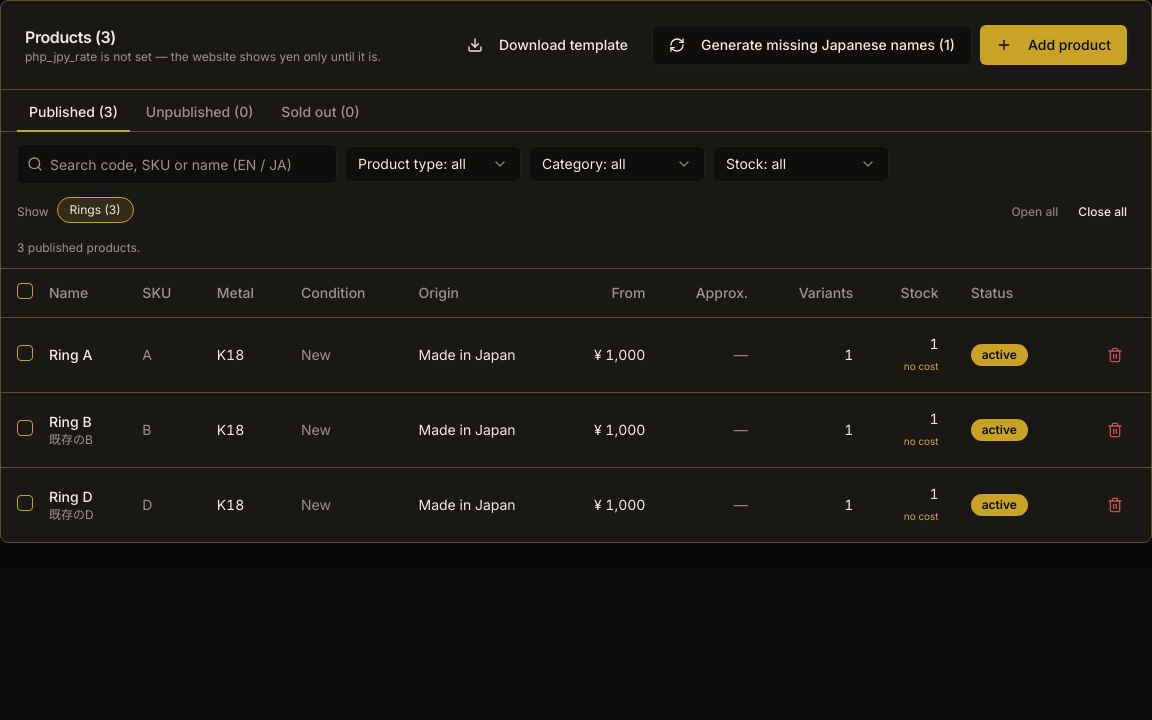
Test: Save locks the editor and belongs to its own session › a translation started in an old editor never lands in, or sticks a spinner on, the next one
Click the text "Ring A" at (80, 354), box [33,317,126,392]
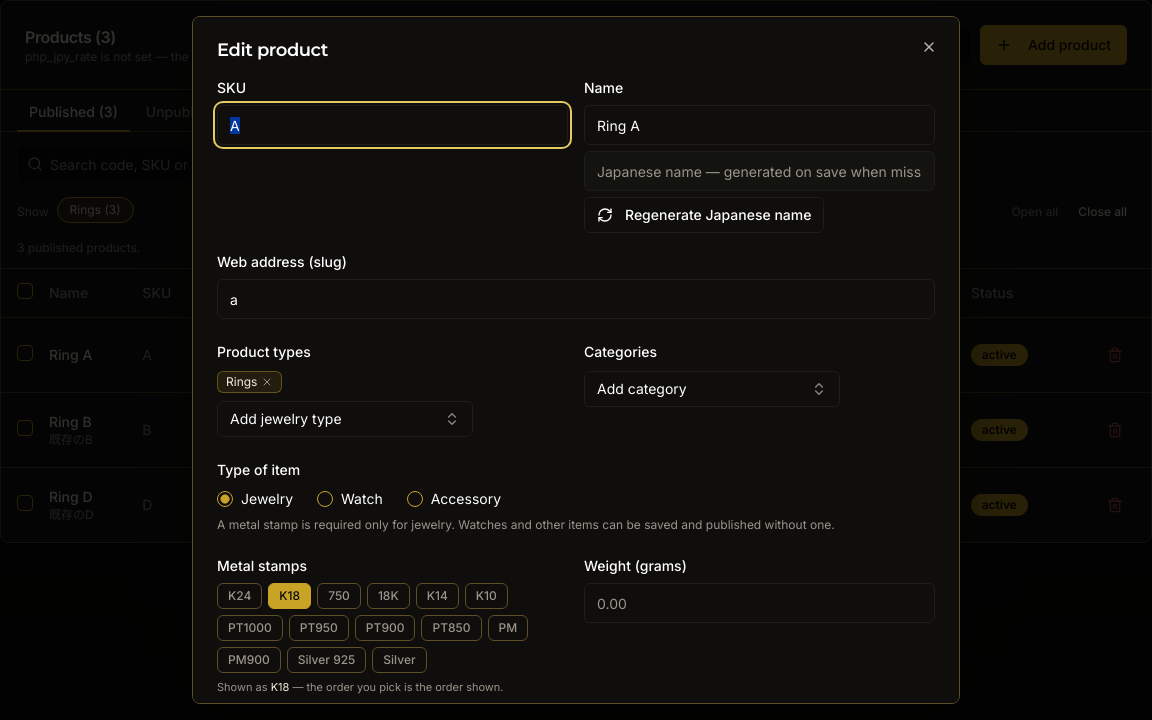
Check: the heading "Edit product" is shown, box [217,39,328,61]
Click the button "Regenerate Japanese name" at (704, 215), box [584,197,824,233]
(page scrolled)
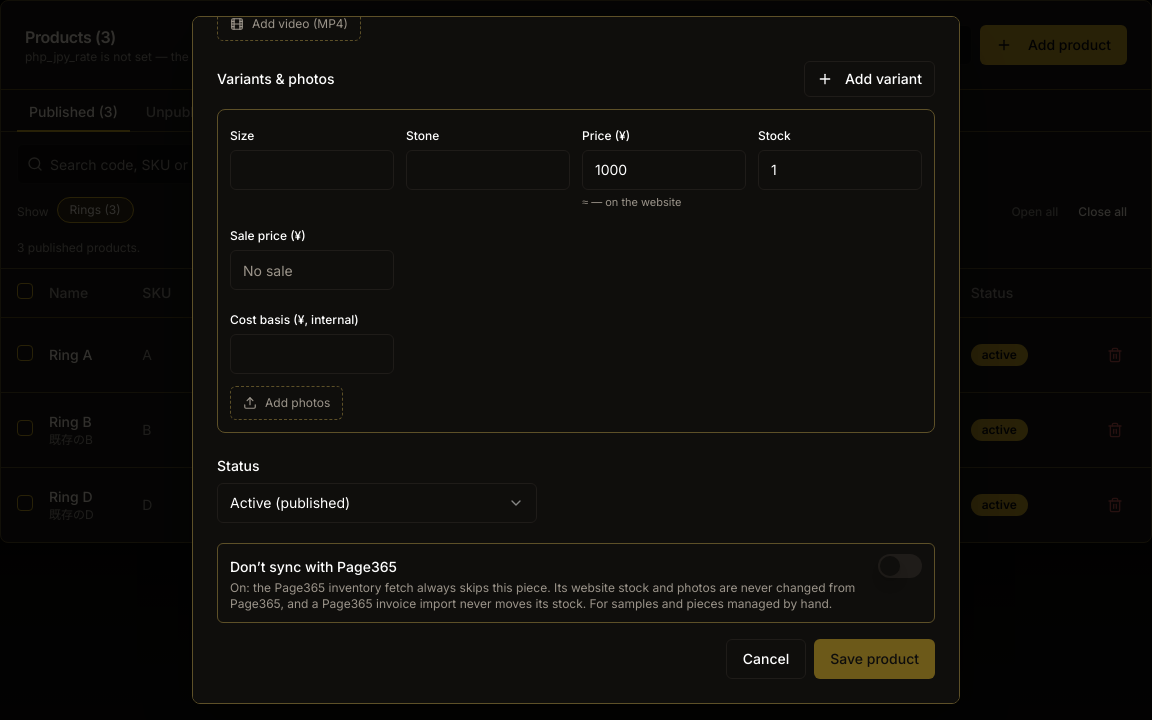
Click the button "Cancel" at (766, 659), box [726,639,806,679]
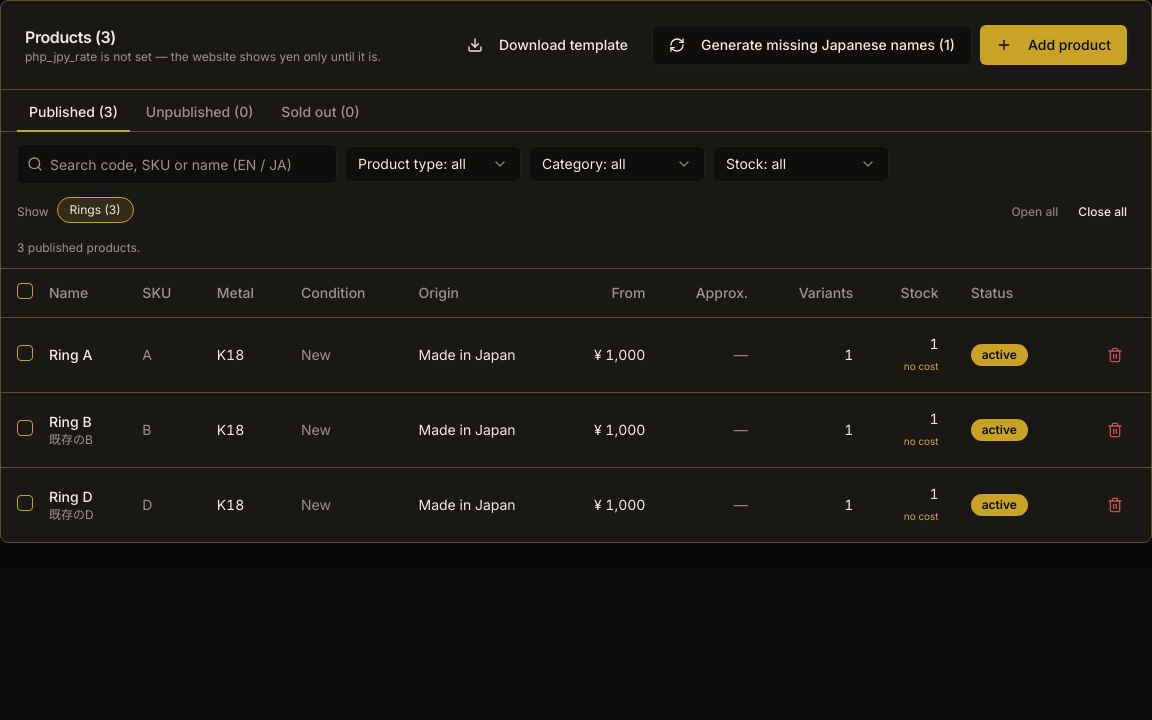
Check: the heading "Edit product" is not shown
Click the text "Ring B" at (80, 430), box [33,392,126,467]
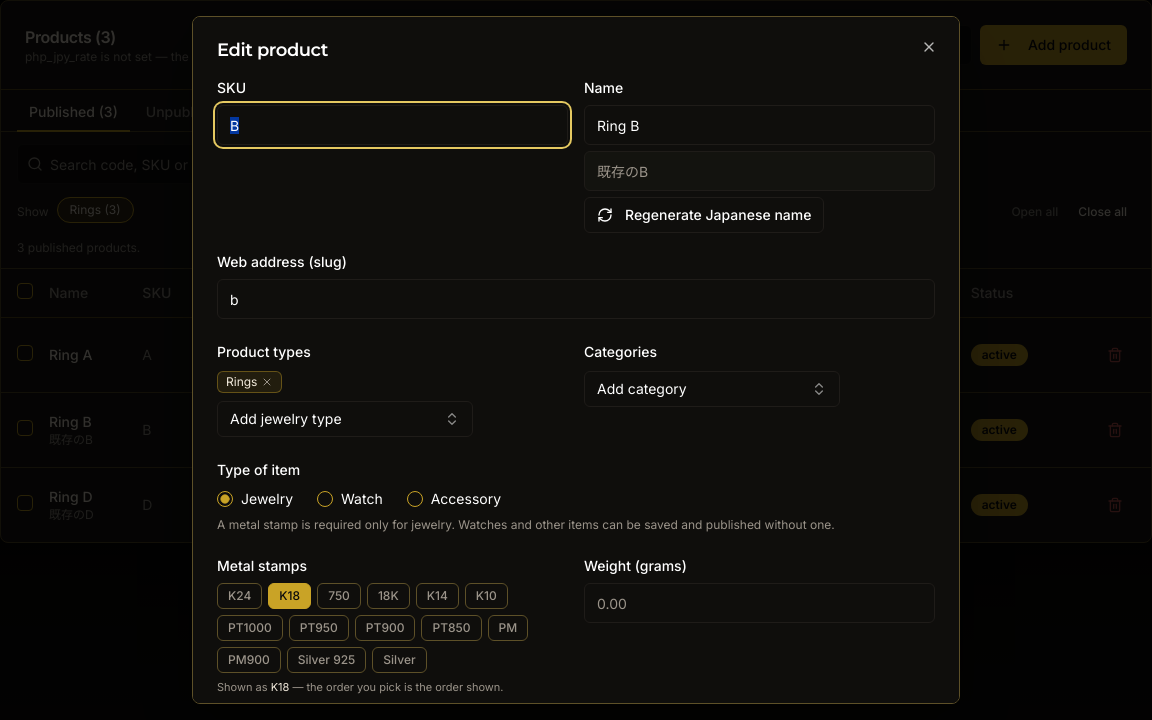
Check: the heading "Edit product" is shown, box [217,39,328,61]
Check: the field named "Name (Japanese, generated)" holds "既存のB", box [584,151,935,191]
Check: the button "Regenerate Japanese name" is enabled, box [584,197,824,233]
